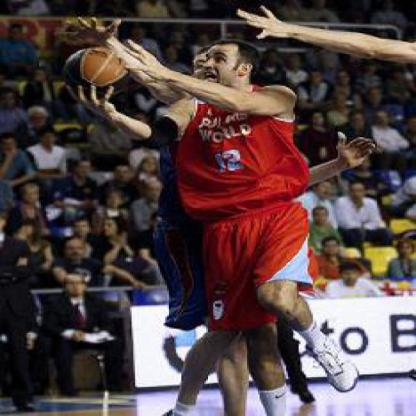basketball: (65, 46, 125, 94)
